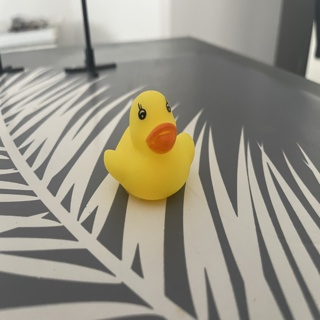duck_regular: (103, 83, 188, 199)
